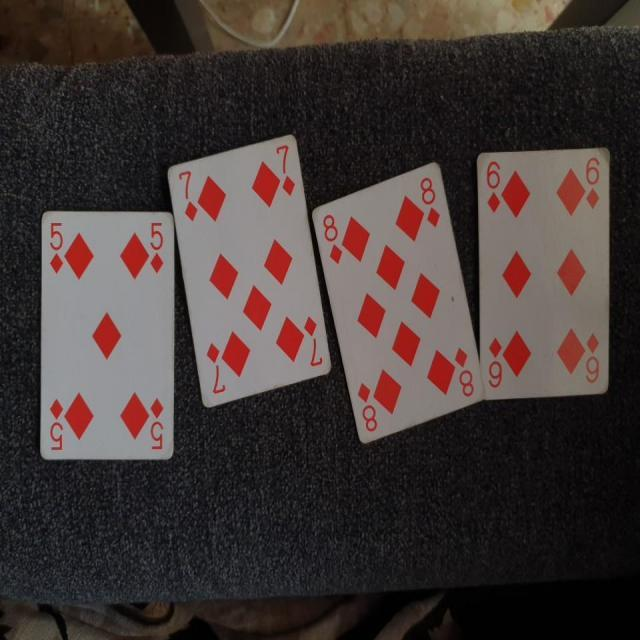5 of diamonds: (38, 208, 176, 461)
6 of diamonds: (474, 143, 612, 400)
7 of diamonds: (166, 132, 334, 409)
8 of diamonds: (310, 162, 487, 444)
